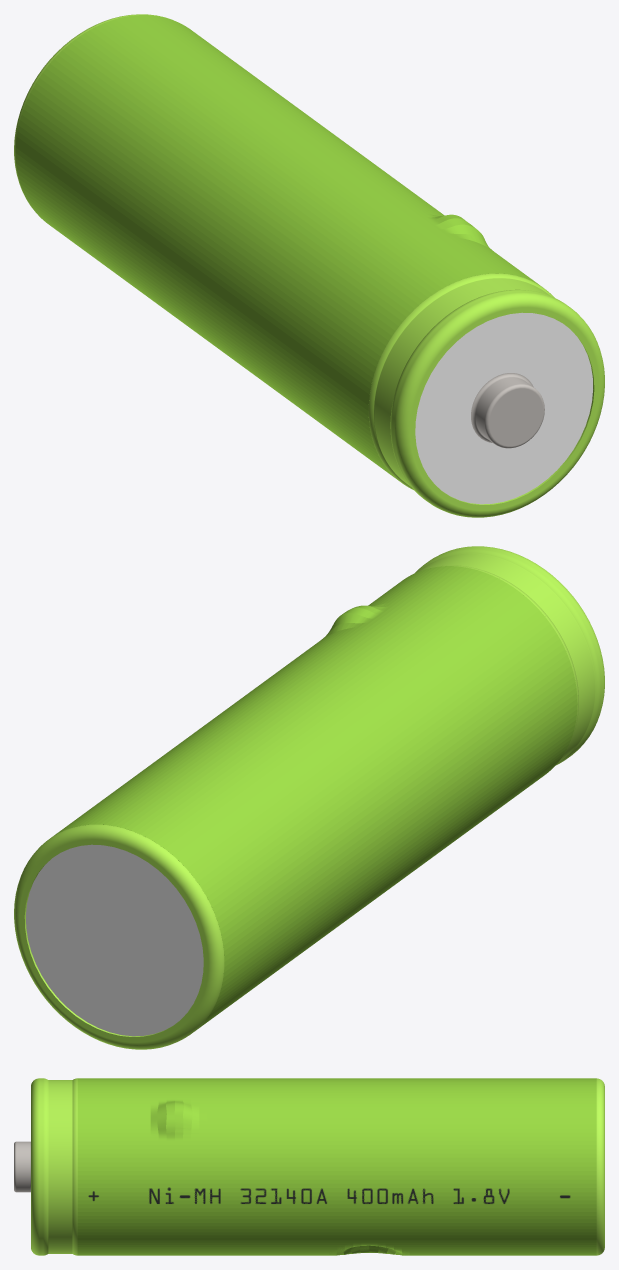
File: defect_7.glb
3 renders of one model, top to bottom at view 1: azimuth 30°, elevation 25°; view 2: azimuth 150°, elevation 25°; view 3: azimuth 270°, elevation 25°, orthographic. The views are drawn at different scales.
Parts seen in each view (by area): view 1: Cylinder, Cell_Top; view 2: Cylinder, Cell_bottom, Cell_Top; view 3: Cylinder, Cell_Top, Cell_bottom.
Part boxes in pixels (x1,y1,x2,y2): Cylinder: (15, 15, 550, 480); Cell_Top: (368, 273, 604, 517); Cylinder: (41, 566, 577, 1031); Cell_bottom: (14, 824, 224, 1049); Cell_Top: (415, 546, 604, 765); Cylinder: (77, 1078, 596, 1255); Cell_Top: (14, 1078, 77, 1255); Cell_bottom: (596, 1078, 604, 1255).
Size of the model in its own units: 0.021 by 0.021 by 0.07.
10 materials, 1 textured.
